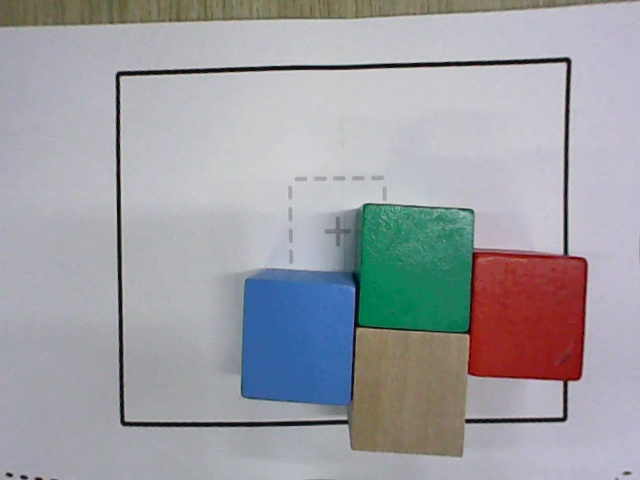upside of big cube: (469, 252, 588, 380), (351, 329, 470, 456), (358, 204, 475, 331), (242, 279, 356, 405)
